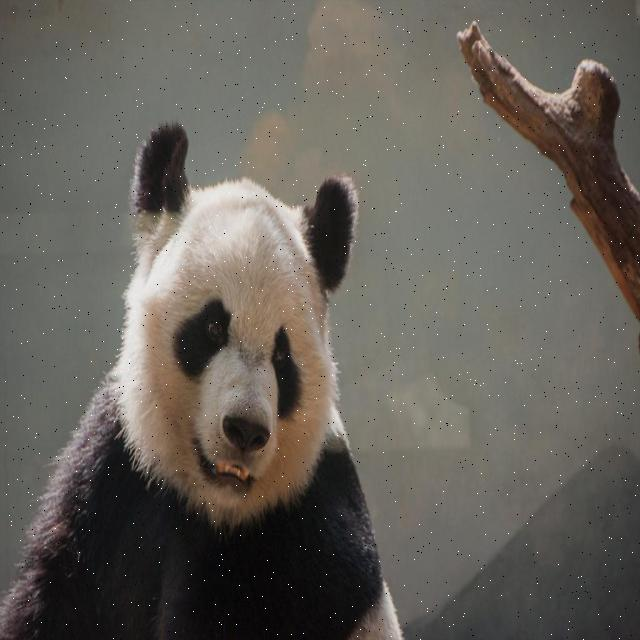panda: (0, 121, 405, 637)
